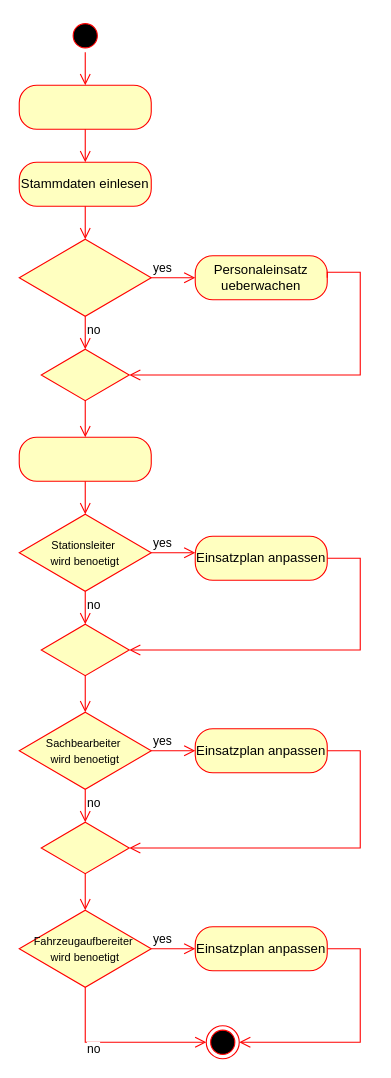
The diagram is 391 pixels wide and 1078 high, and some of its shapes have lost their labels. Each missing label, with the centre of its shape:
Buchungslage analysieren: (84,458)
Nachfrage- schwankung entsteht: (84,277)
Performance einlesen: (84,106)
